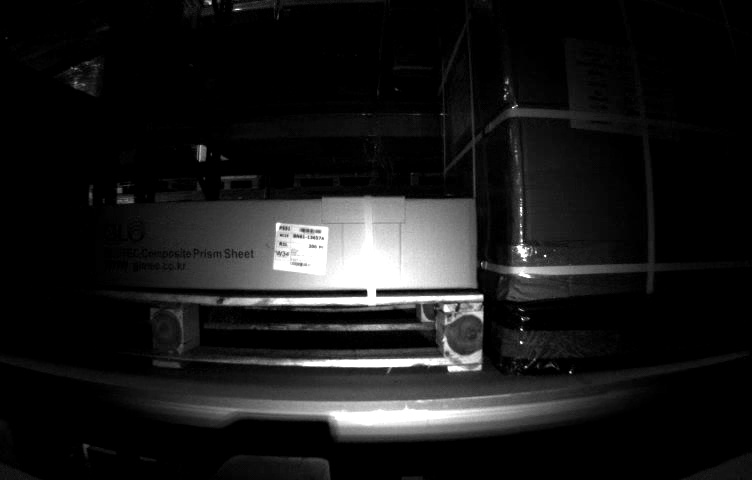True Barcode: (271, 223, 326, 273)
